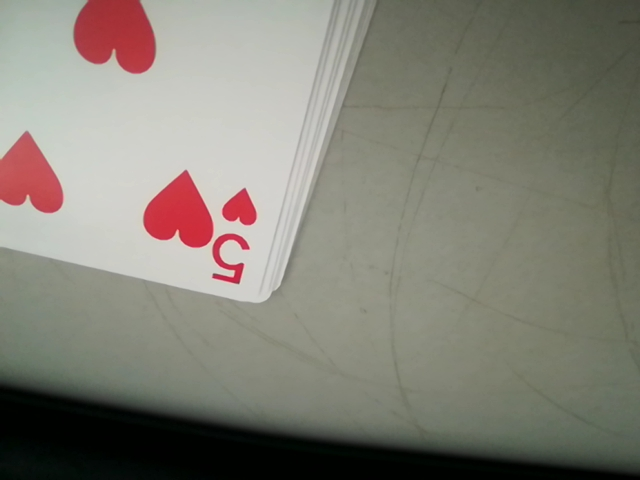hx 5: (212, 184, 259, 284)
